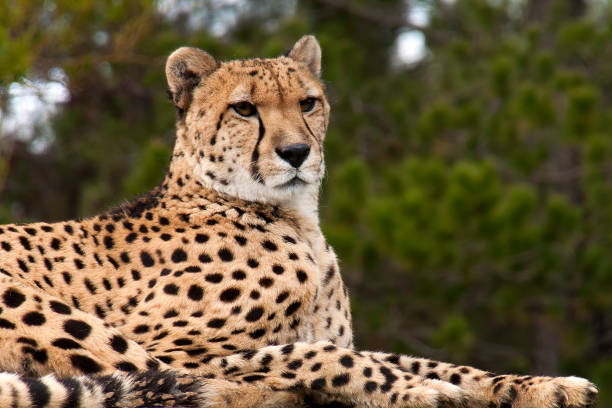cheetah: (139, 24, 370, 231)
